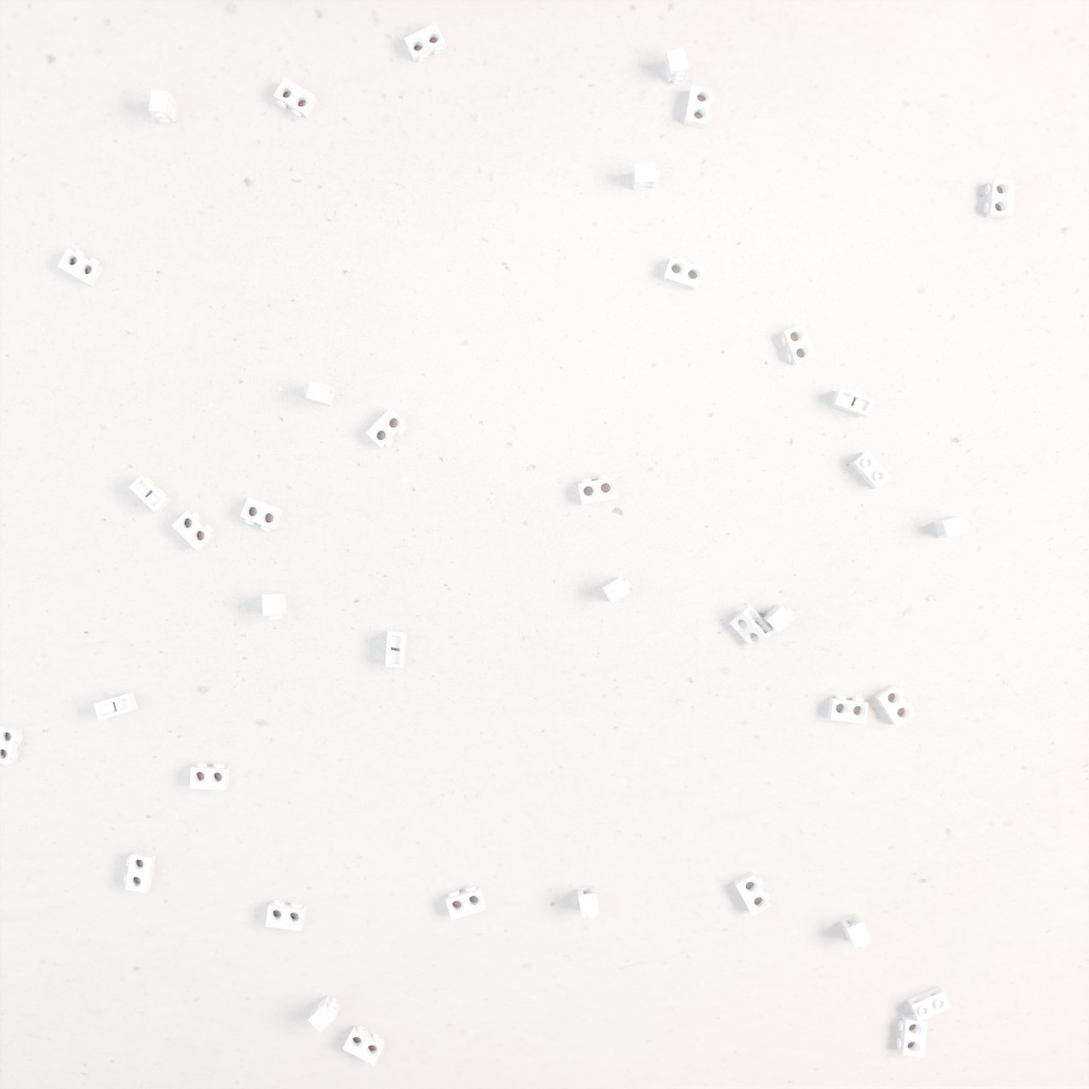lego: (730, 605, 773, 649), (57, 248, 103, 287), (274, 77, 317, 118), (342, 1025, 385, 1066), (874, 684, 915, 727), (172, 511, 215, 551), (734, 871, 772, 916), (366, 408, 407, 449), (404, 23, 446, 63), (129, 475, 172, 512), (907, 986, 951, 1022), (850, 451, 891, 489), (240, 497, 284, 532), (780, 324, 816, 366), (663, 256, 704, 291), (446, 885, 486, 920), (123, 851, 156, 893), (684, 85, 715, 128), (831, 387, 874, 418), (93, 692, 138, 721), (265, 900, 306, 931), (897, 1015, 927, 1057), (984, 179, 1015, 219), (308, 995, 340, 1033), (827, 695, 868, 724), (578, 475, 617, 505), (840, 913, 872, 949), (190, 762, 229, 790), (149, 90, 177, 125), (762, 604, 795, 633), (0, 724, 23, 765), (664, 47, 688, 84), (601, 576, 631, 604), (385, 630, 407, 668), (934, 515, 969, 538), (304, 381, 336, 406), (577, 885, 600, 919), (632, 163, 660, 190), (262, 593, 287, 620)
